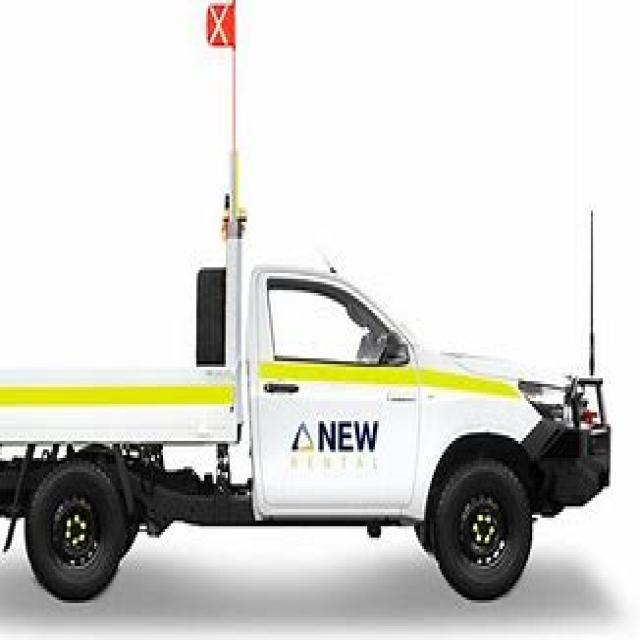light_vehicle: (10, 259, 612, 609)
